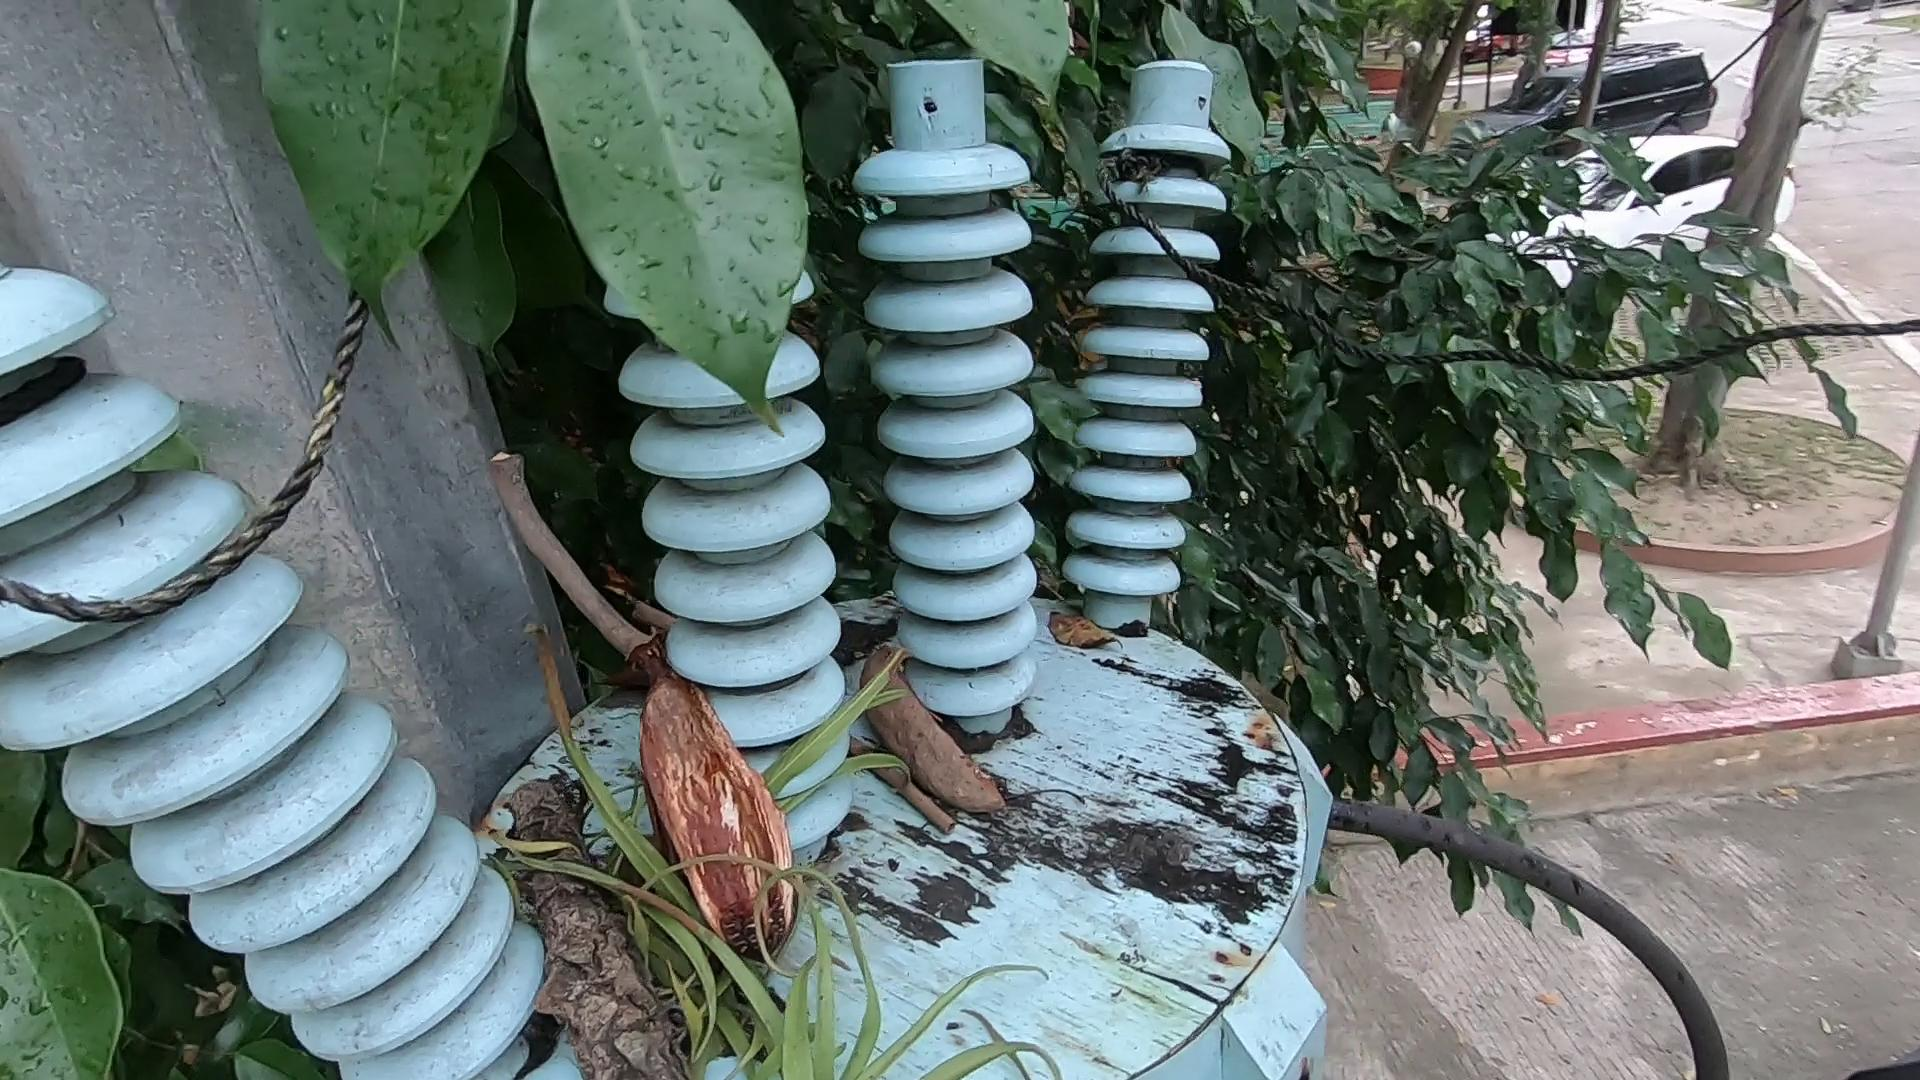branch with leaves: (487, 761, 1000, 1080)
leaf: (1033, 589, 1145, 682)
mahogany fruit: (641, 682, 803, 940), (862, 636, 1001, 828)
tree branch: (616, 601, 967, 853), (477, 455, 708, 724)
